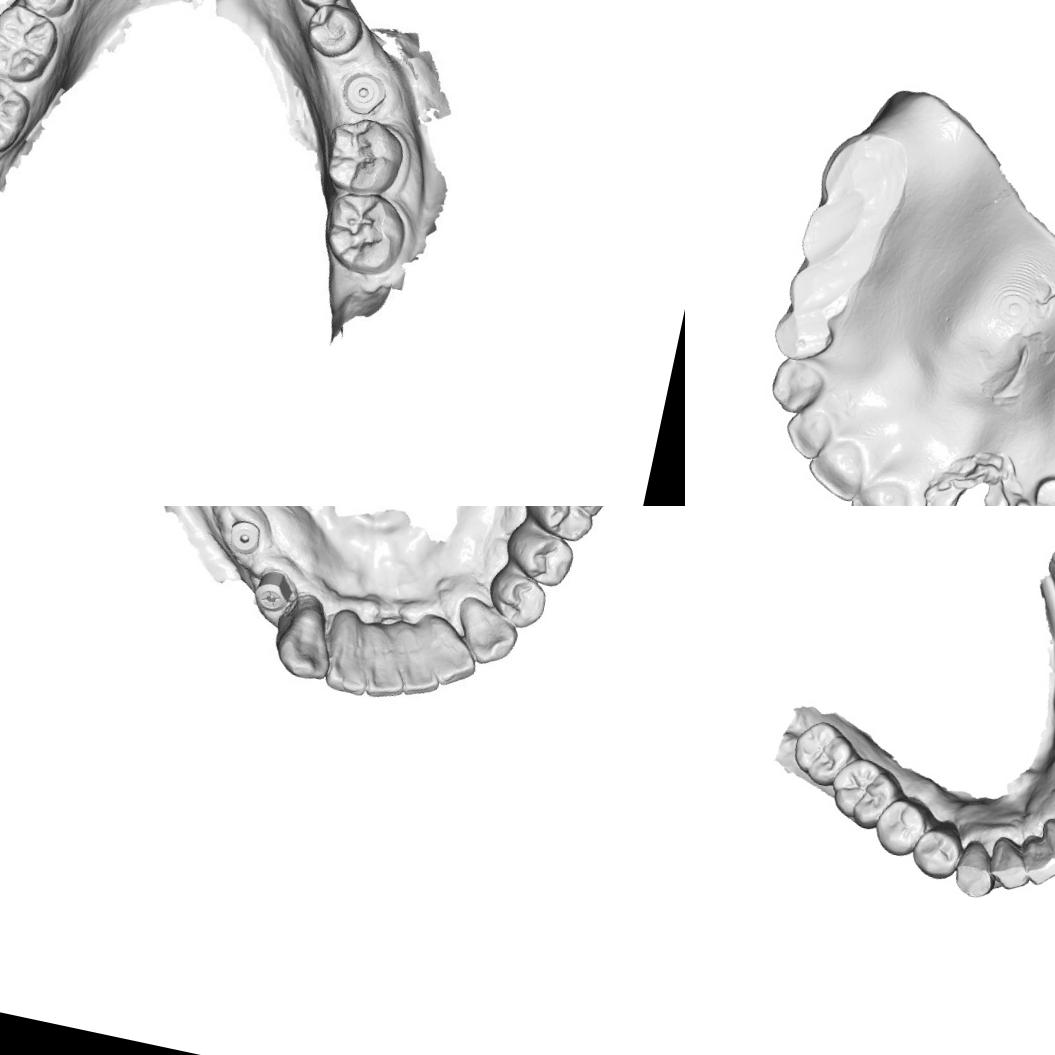canine: (269, 599, 337, 684), (766, 352, 833, 420), (461, 598, 523, 671), (949, 837, 1003, 902)
implant: (340, 66, 389, 118), (224, 514, 266, 556)
implant_plus: (248, 570, 292, 614)
incisor: (382, 620, 450, 700), (412, 615, 482, 690), (322, 609, 382, 692), (800, 432, 869, 504), (354, 625, 412, 698), (778, 403, 838, 466), (984, 834, 1036, 894), (842, 471, 915, 506), (1015, 831, 1055, 889), (1035, 815, 1055, 871)
molar: (316, 181, 418, 285), (316, 111, 411, 201), (823, 752, 908, 836), (788, 716, 866, 792), (0, 2, 58, 86), (515, 506, 615, 550), (0, 72, 32, 164)
premolar: (504, 520, 578, 591), (868, 792, 934, 862), (484, 564, 552, 629), (907, 815, 967, 884), (302, 1, 365, 64), (17, 0, 78, 23), (291, 0, 353, 15)
